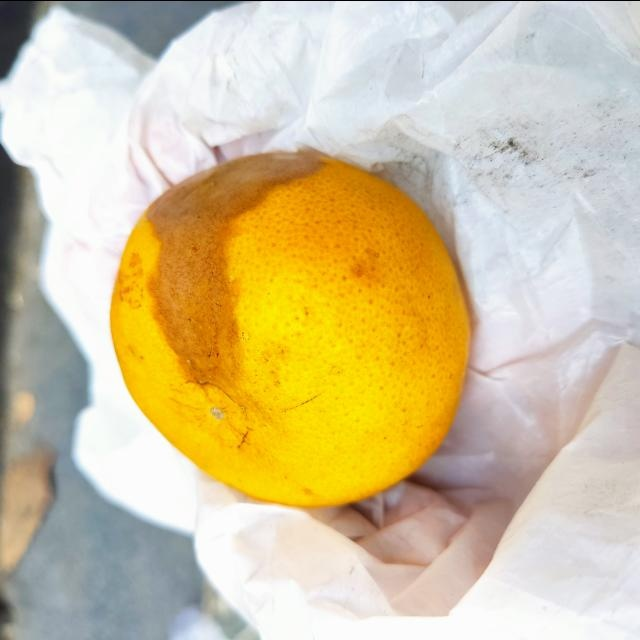agrume: (111, 149, 469, 512)
